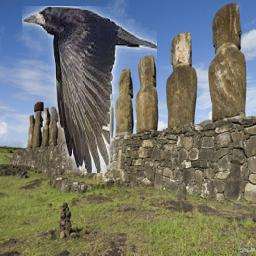Crow: (23, 7, 158, 174)
